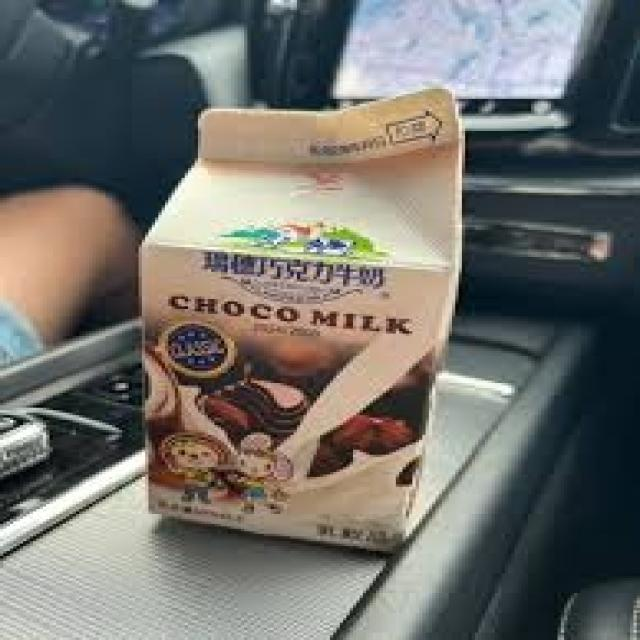RuiSui_ChocoMilk: (141, 112, 467, 568)
